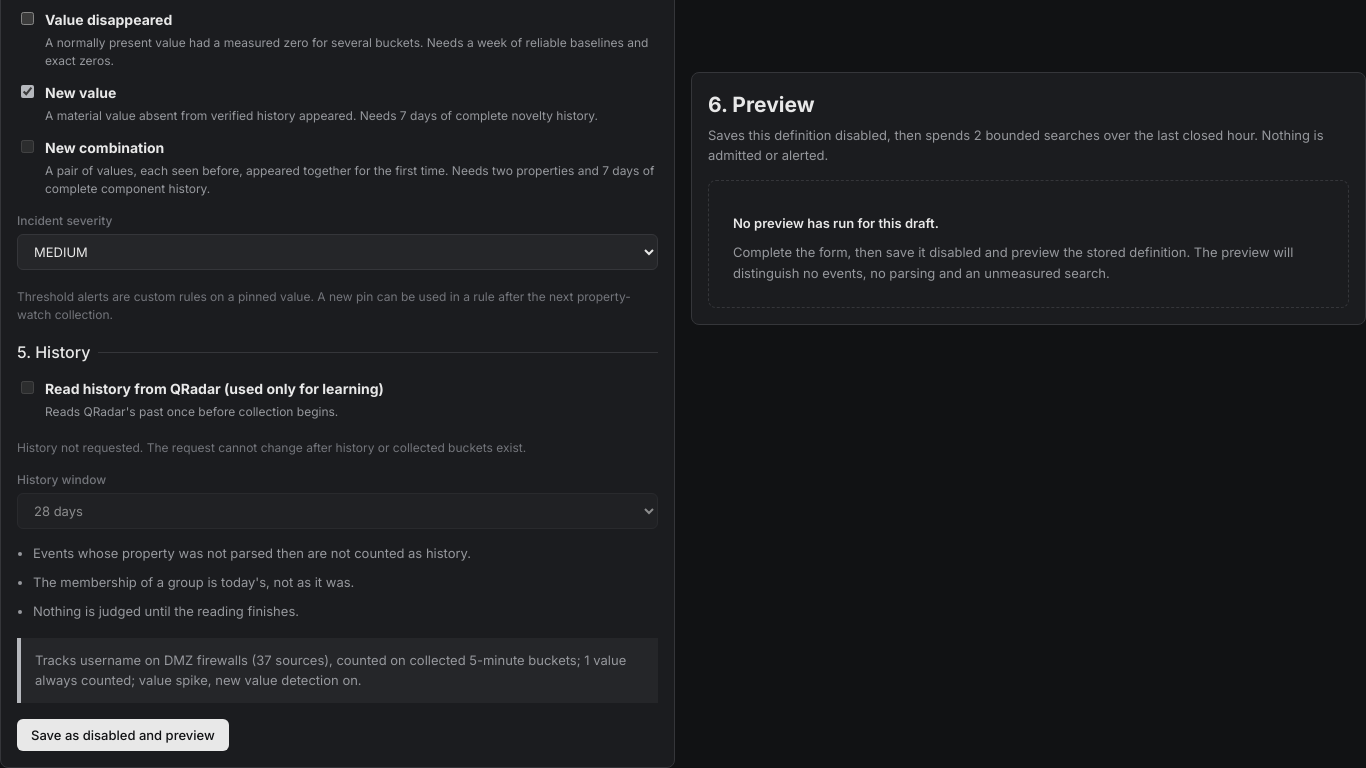
property-watch save and preview › designs the scope silence empty preview
(page scrolled)
Step 1. Click the button "Save as disabled and preview" → (123, 735), box [17, 719, 229, 751]
(page scrolled)
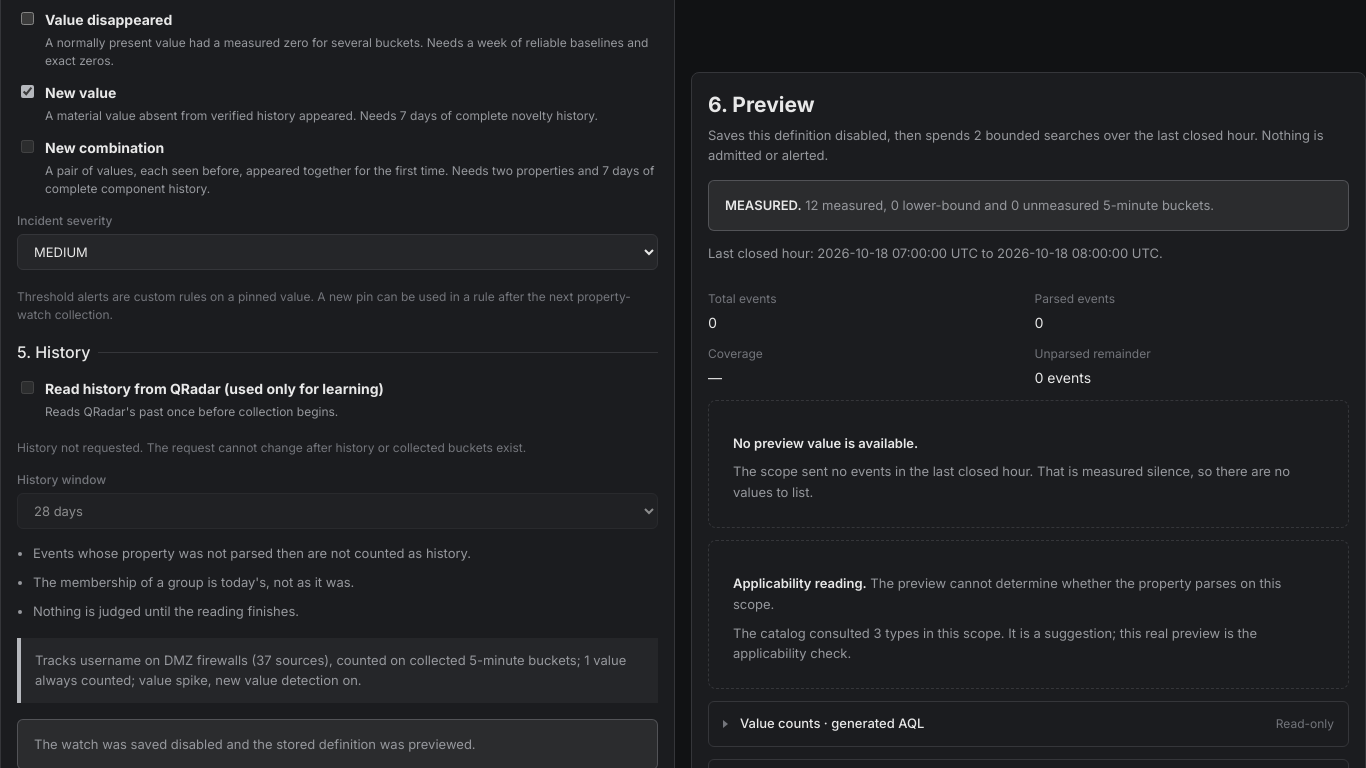
Expected: the text "scope sent no events" is shown, [733, 464, 1290, 500]
